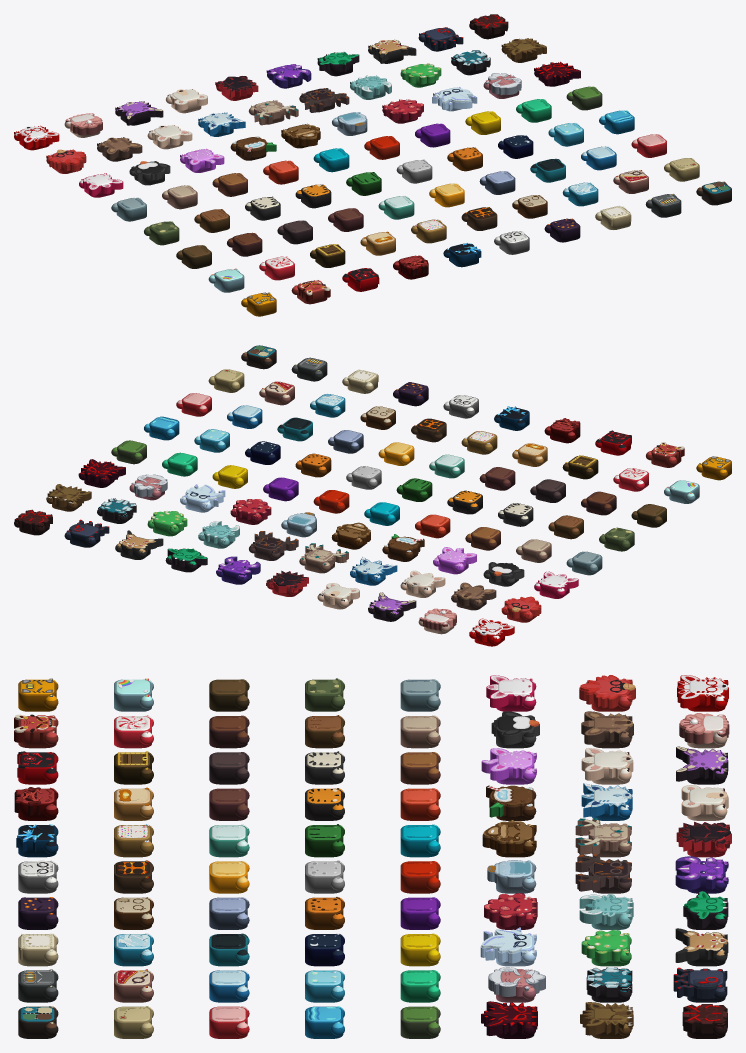
File: skins-corpo_lotes11_16.fbx
The picture shows the model from 3 angles, top to bottom: view 1: azimuth 30°, elevation 25°; view 2: azimuth 150°, elevation 25°; view 3: azimuth 270°, elevation 25°; orthographic projection. The views are drawn at different scales.
Parts seen in each view (by area): view 1: body_toco_vulcanico_corpo, body_toco_gelo_corpo, body_lince_roxo_corpo, body_sombra_carmesim_corpo, body_lobisomem_corpo, body_fantasminha_corpo, body_gato_gelo_corpo, body_monstro_cristal_corpo, body_kitsune_corpo, body_caracal_corpo, body_coiote_corpo, body_geleia_rubi_corpo (+68 smaller); view 2: body_toco_gelo_corpo, body_toco_vulcanico_corpo, body_sombra_carmesim_corpo, body_monstro_cristal_corpo, body_fantasminha_corpo, body_kitsune_corpo, body_lobisomem_corpo, body_gato_gelo_corpo, body_lince_roxo_corpo, body_coiote_corpo, body_gato_rosa_corpo, body_raposa_artica_corpo (+68 smaller); view 3: body_toco_gelo_corpo, body_toco_vulcanico_corpo, body_sombra_carmesim_corpo, body_monstro_cristal_corpo, body_fantasminha_corpo, body_lobisomem_corpo, body_diabrete_gelo_corpo, body_lince_roxo_corpo, body_anciao_corpo, body_caracal_corpo, body_coiote_corpo, body_gato_gelo_corpo (+68 smaller).
Part boxes in pixels (x1,y1,x2,y2): body_toco_vulcanico_corpo: (303, 88, 349, 112); body_toco_gelo_corpo: (254, 101, 298, 125); body_lince_roxo_corpo: (117, 101, 163, 125); body_sombra_carmesim_corpo: (536, 62, 580, 86); body_lobisomem_corpo: (503, 38, 546, 62); body_fantasminha_corpo: (432, 87, 477, 111); body_gato_gelo_corpo: (200, 112, 245, 136); body_monstro_cristal_corpo: (268, 64, 311, 88); body_kitsune_corpo: (17, 126, 59, 150); body_caracal_corpo: (371, 40, 416, 63); body_coiote_corpo: (100, 137, 142, 161); body_geleia_rubi_corpo: (383, 99, 423, 123); body_toco_gelo_corpo: (304, 543, 348, 573); body_toco_vulcanico_corpo: (253, 531, 298, 560); body_sombra_carmesim_corpo: (81, 459, 125, 487); body_monstro_cristal_corpo: (218, 556, 260, 584); body_fantasminha_corpo: (185, 484, 225, 512); body_kitsune_corpo: (472, 618, 514, 646); body_lobisomem_corpo: (47, 484, 91, 511); body_gato_gelo_corpo: (352, 557, 397, 585); body_lince_roxo_corpo: (369, 592, 416, 621); body_coiote_corpo: (454, 582, 496, 610); body_gato_rosa_corpo: (538, 571, 578, 598); body_raposa_artica_corpo: (404, 570, 445, 597); body_toco_gelo_corpo: (575, 817, 629, 857); body_toco_vulcanico_corpo: (575, 854, 629, 893); body_sombra_carmesim_corpo: (481, 1001, 537, 1038); body_monstro_cristal_corpo: (675, 856, 725, 893); body_fantasminha_corpo: (480, 927, 534, 966); body_lobisomem_corpo: (580, 1002, 633, 1038); body_diabrete_gelo_corpo: (579, 894, 633, 929); body_lince_roxo_corpo: (676, 746, 728, 784); body_anciao_corpo: (488, 967, 545, 1002); body_caracal_corpo: (675, 928, 728, 966); body_coiote_corpo: (581, 711, 633, 748); body_gato_gelo_corpo: (581, 783, 632, 820).
Bounding box in the file's own units: 87.22 × 2.38 × 75.14.
Materials: 1 (1 with a texture image).
